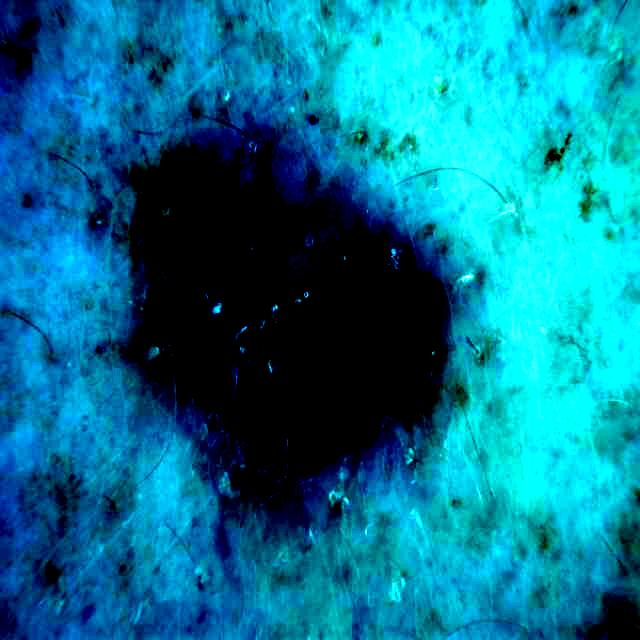DF: (135, 121, 495, 518)
